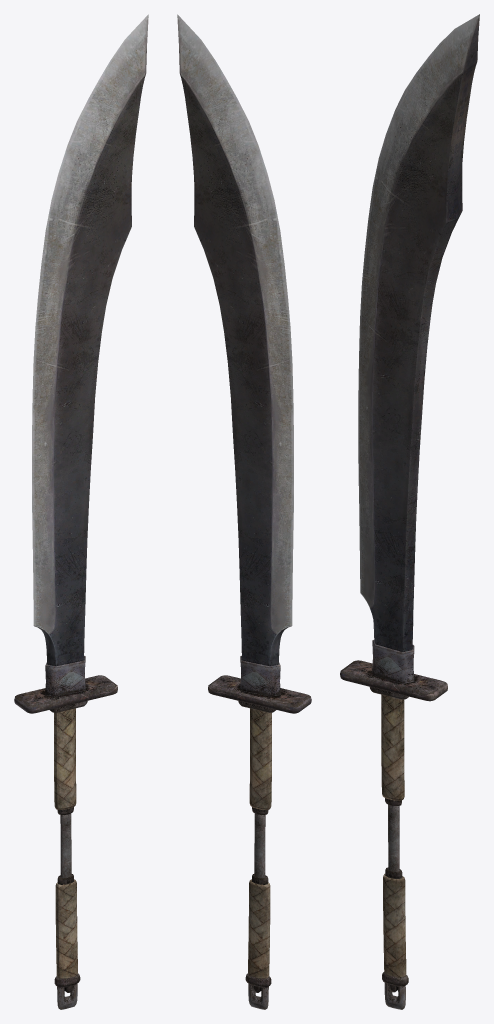
File: bs_swo002.obj
3 renders of one model, left to right at view 1: azimuth 30°, elevation 25°; view 2: azimuth 150°, elevation 25°; view 3: azimuth 330°, elevation 25°, orthographic. The views are drawn at different scales.
Parts seen in each view (by area): view 1: bs_swo002_000_LOD_1; view 2: bs_swo002_000_LOD_1; view 3: bs_swo002_000_LOD_1.
Boxes of the visible parts, x1,y1,x2,y2 form: bs_swo002_000_LOD_1: (14,14,148,1009); bs_swo002_000_LOD_1: (177,14,311,1009); bs_swo002_000_LOD_1: (340,14,479,1009).
Size of the model in its own units: 38.18 by 277 by 8.86.
